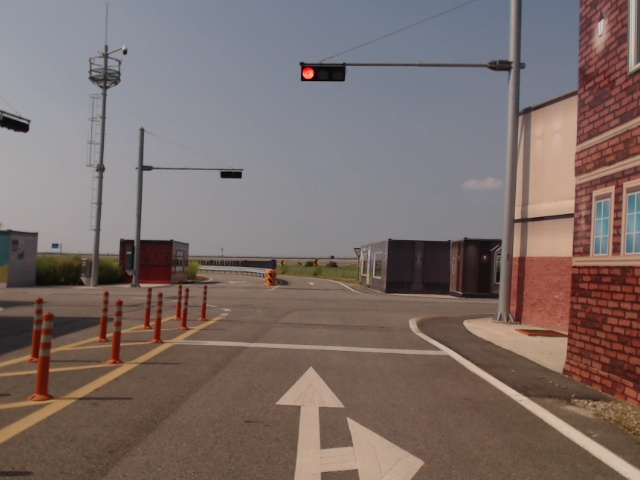red_3: (301, 64, 347, 81)
